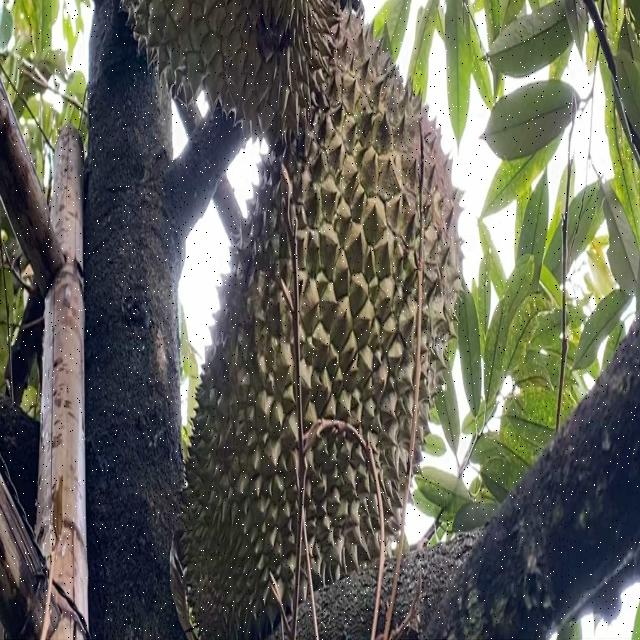RIPE: (180, 4, 467, 634)
